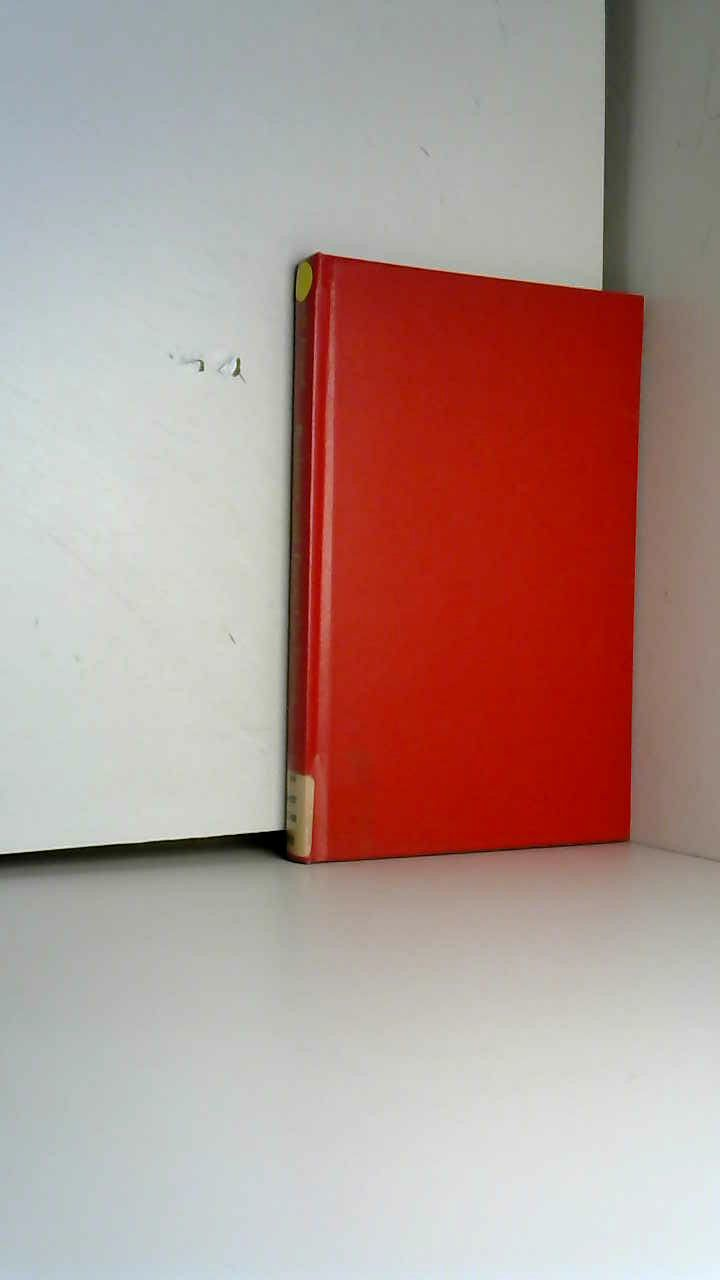book: (250, 230, 717, 894)
